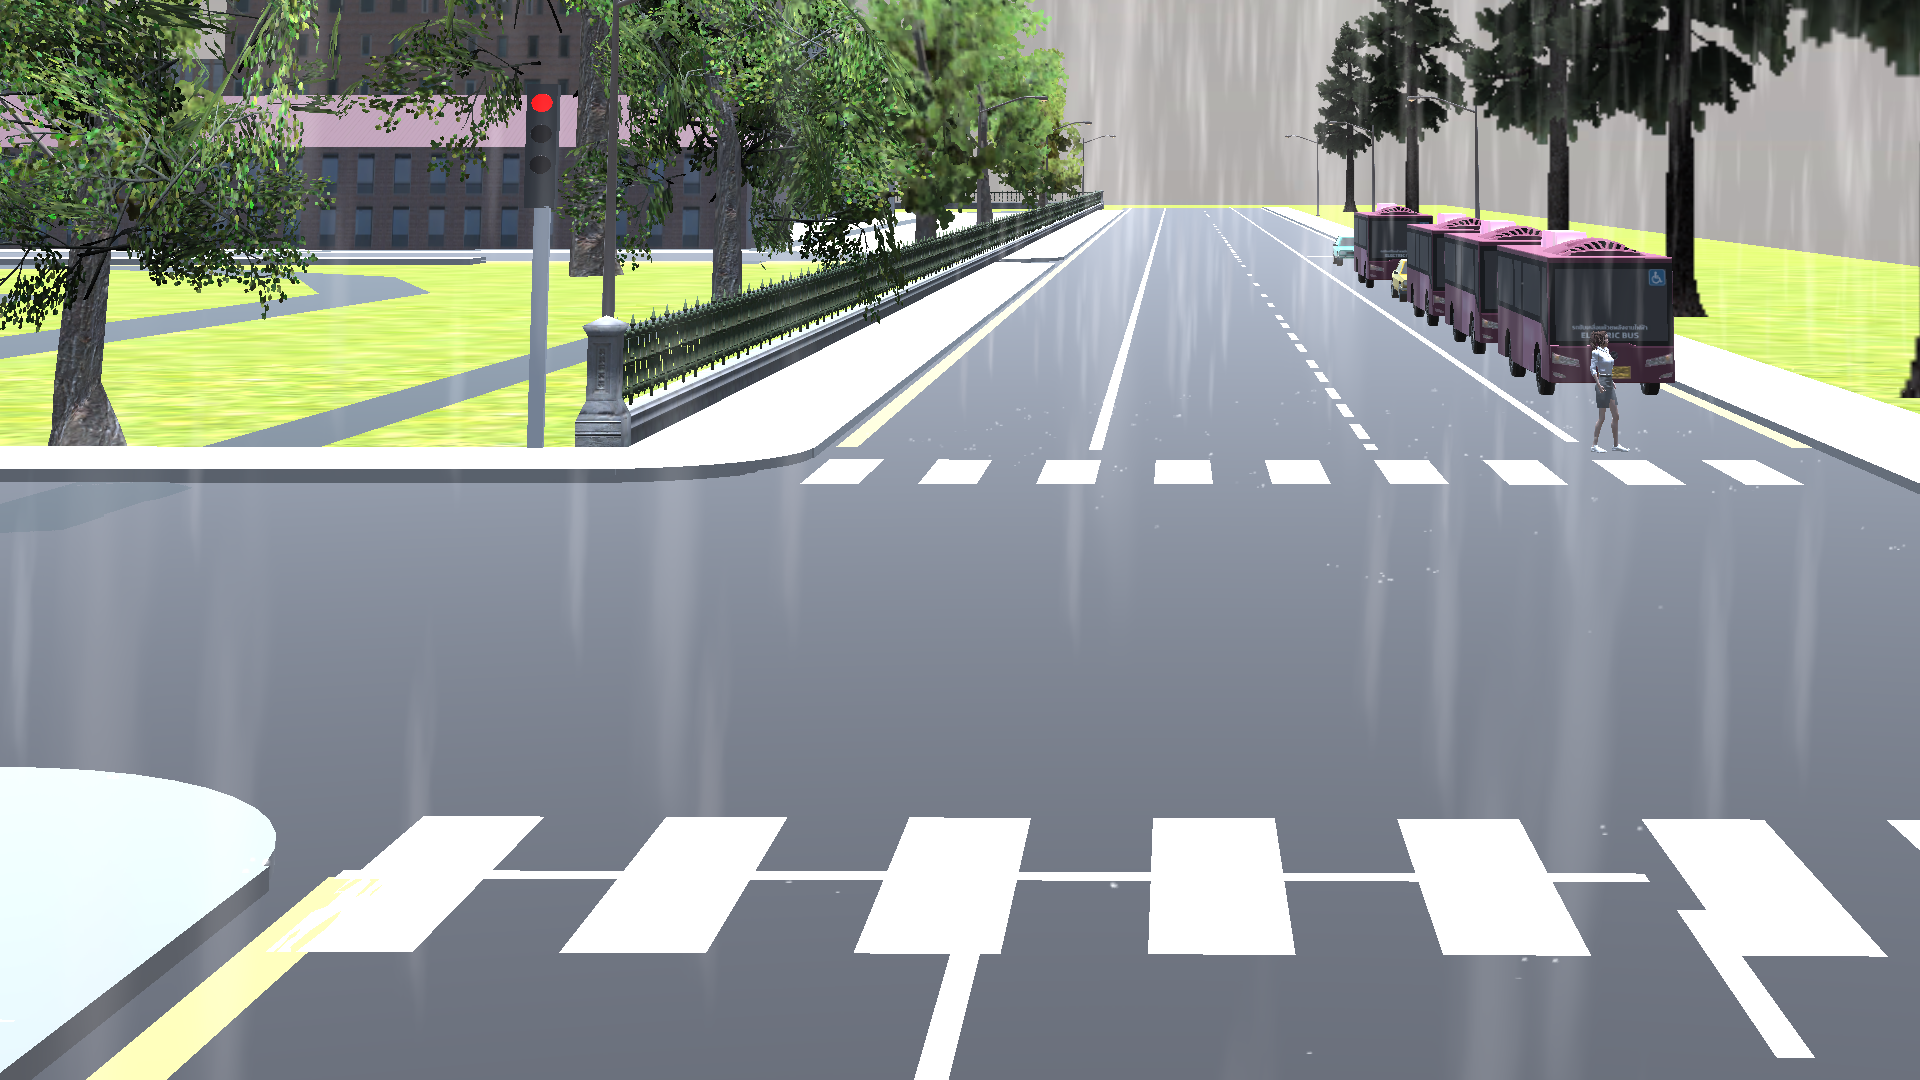pedestrian: (1576, 325, 1663, 468)
